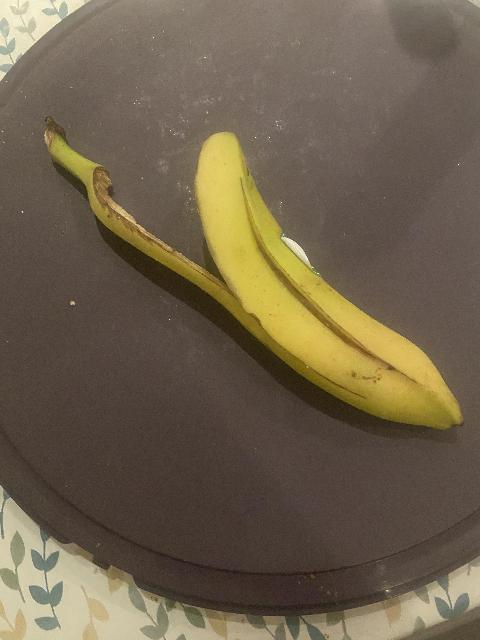Organik: (35, 119, 470, 443)
